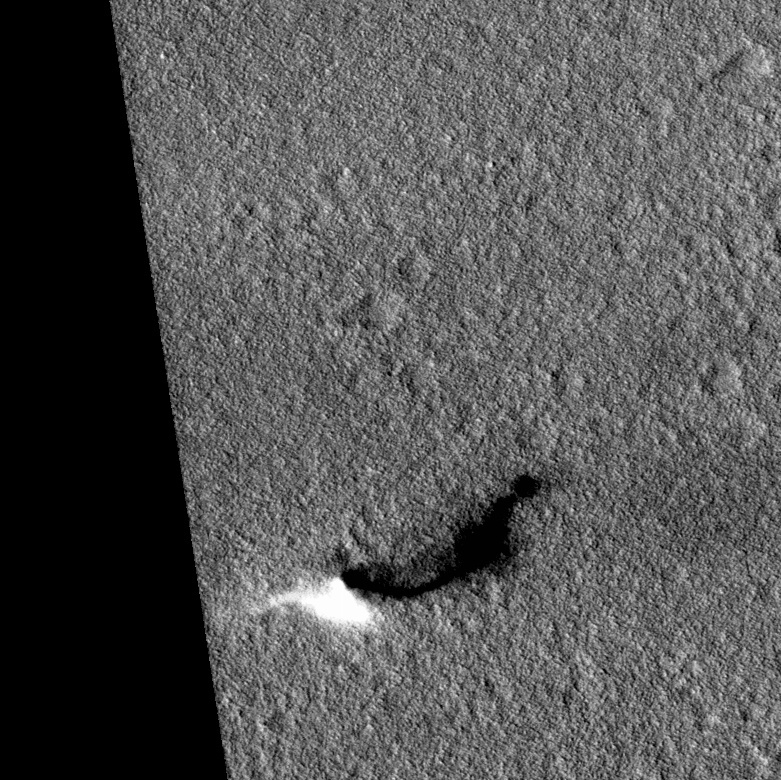dust_devil: (254, 468, 554, 630)
